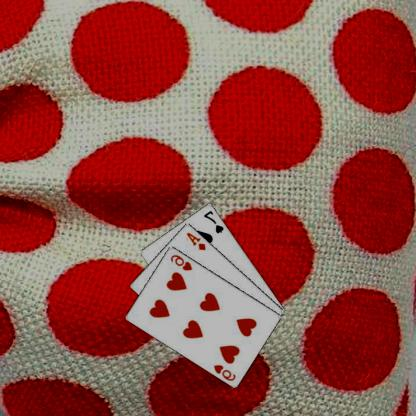6H: (170, 252, 195, 272), (213, 362, 238, 382)
7S: (203, 208, 227, 235)
AD: (186, 230, 208, 251)
